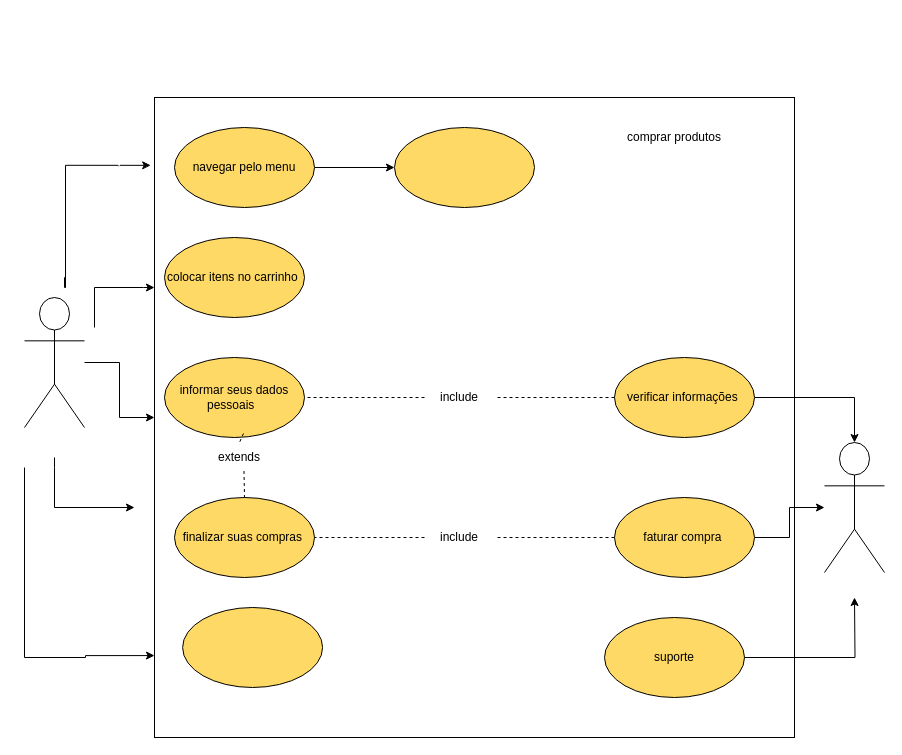
Image size: 902x755. Some labels were removed from this diagram. The box of each missing label's shape, as (x1, y1, x2, y2) in pixels:
Cliente: (24, 296, 84, 428)
entrar nas redes socias: (182, 606, 323, 688)
selecionar produtos: (394, 126, 534, 208)
Sistema: (824, 442, 884, 572)
